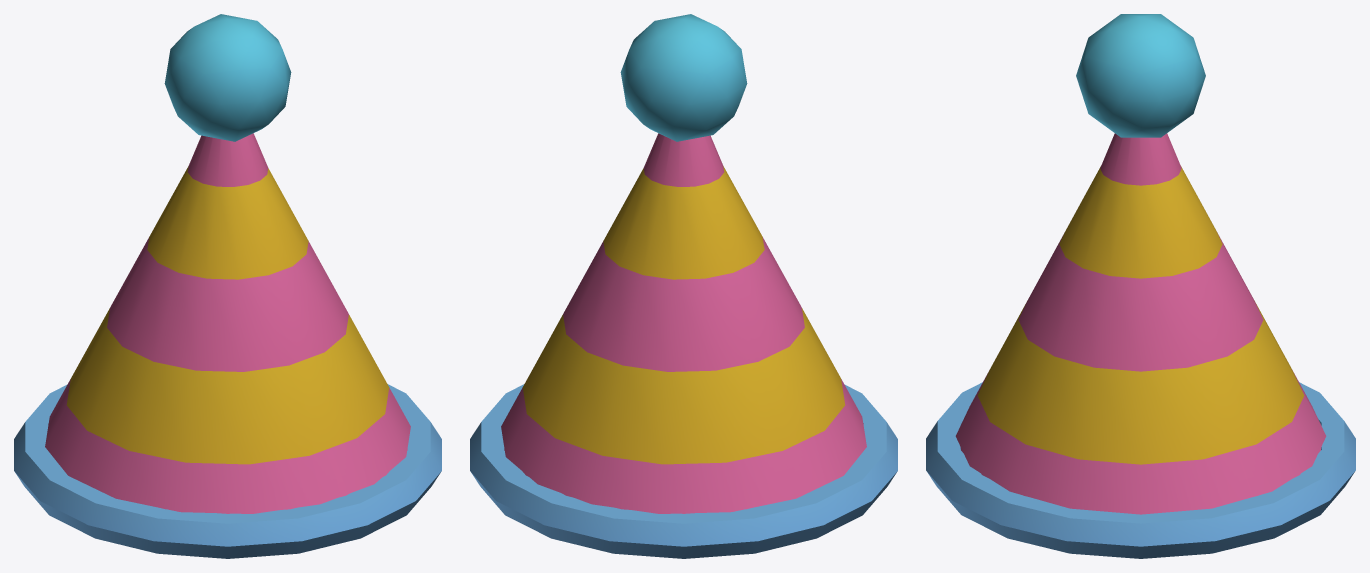
The model's file is lo_hat_party.glb.
3 renders of one model, left to right at view 1: azimuth 30°, elevation 25°; view 2: azimuth 150°, elevation 25°; view 3: azimuth 270°, elevation 25°, orthographic.
Parts seen in each view (by area): view 1: body; view 2: body; view 3: body.
Boxes of the visible parts, x1,y1,x2,y2 form: body: (14, 14, 441, 558); body: (470, 14, 897, 558); body: (926, 14, 1355, 558).
Bounding box in the file's own units: 0.47 × 0.54 × 0.4629.
